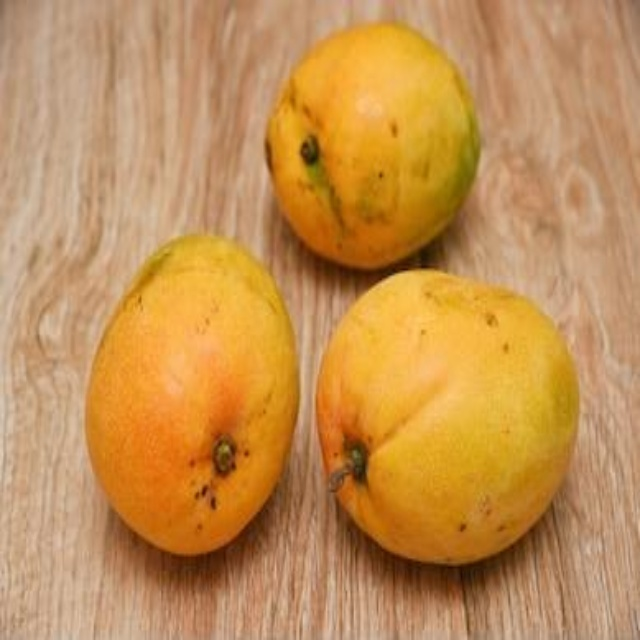mango: (315, 274, 576, 553), (96, 231, 286, 566), (275, 20, 473, 262)
